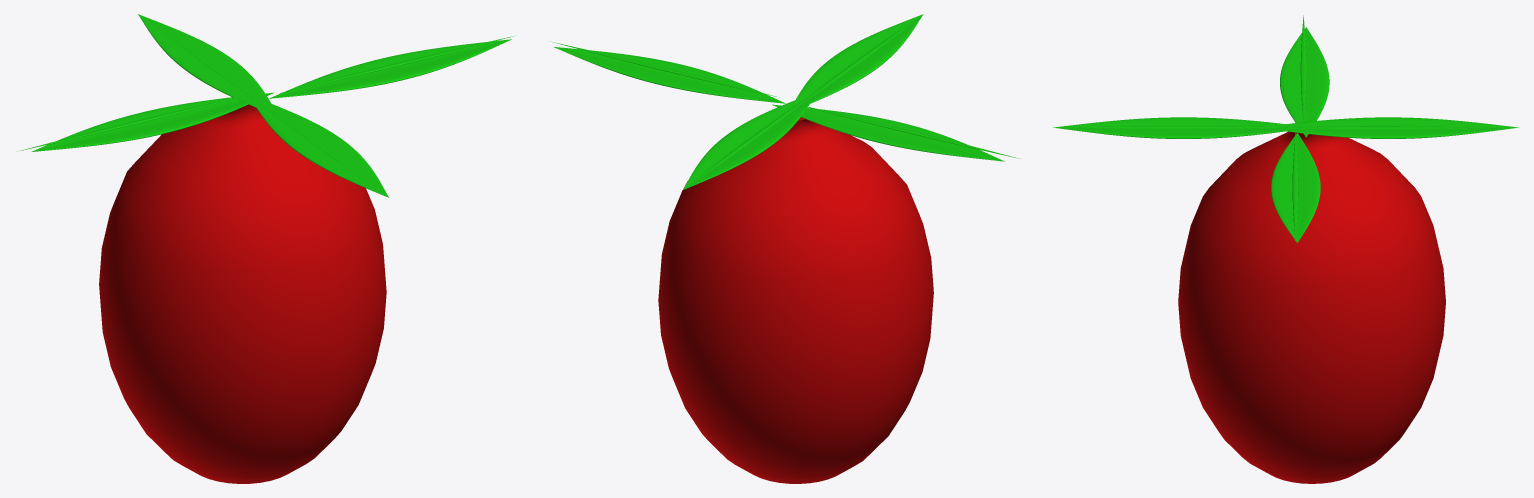
The model's file is Tomato.obj.
3 renders of one model, left to right at view 1: azimuth 30°, elevation 25°; view 2: azimuth 150°, elevation 25°; view 3: azimuth 270°, elevation 25°, orthographic. The views are drawn at different scales.
Parts seen in each view (by area): view 1: Sphere, NurbsPath.002, NurbsPath, NurbsPath.004, NurbsPath.006, NurbsPath.001, NurbsPath.008; view 2: Sphere, NurbsPath.002, NurbsPath, NurbsPath.004, NurbsPath.006, NurbsPath.001, NurbsPath.008; view 3: Sphere, NurbsPath.006, NurbsPath.004, NurbsPath.002, NurbsPath, NurbsPath.007, NurbsPath.005.
Part boxes in pixels (bbox=[...]): Sphere: bbox=[99, 104, 386, 483]; NurbsPath.002: bbox=[269, 39, 511, 98]; NurbsPath: bbox=[31, 92, 273, 151]; NurbsPath.004: bbox=[256, 102, 388, 197]; NurbsPath.006: bbox=[138, 14, 271, 107]; NurbsPath.001: bbox=[17, 93, 255, 151]; NurbsPath.008: bbox=[279, 35, 515, 93]; Sphere: bbox=[658, 117, 933, 483]; NurbsPath.002: bbox=[554, 47, 785, 103]; NurbsPath: bbox=[772, 104, 1004, 161]; NurbsPath.004: bbox=[796, 14, 923, 103]; NurbsPath.006: bbox=[683, 99, 809, 189]; NurbsPath.001: bbox=[794, 103, 1018, 158]; NurbsPath.008: bbox=[551, 41, 779, 97]; Sphere: bbox=[1178, 131, 1445, 483]; NurbsPath.006: bbox=[1282, 117, 1518, 138]; NurbsPath.004: bbox=[1053, 117, 1289, 138]; NurbsPath.002: bbox=[1271, 133, 1320, 242]; NurbsPath: bbox=[1280, 27, 1329, 137]; NurbsPath.007: bbox=[1275, 126, 1501, 128]; NurbsPath.005: bbox=[1058, 126, 1287, 128].
Bounding box in the file's own units: 1.99 × 1.46 × 1.73.
